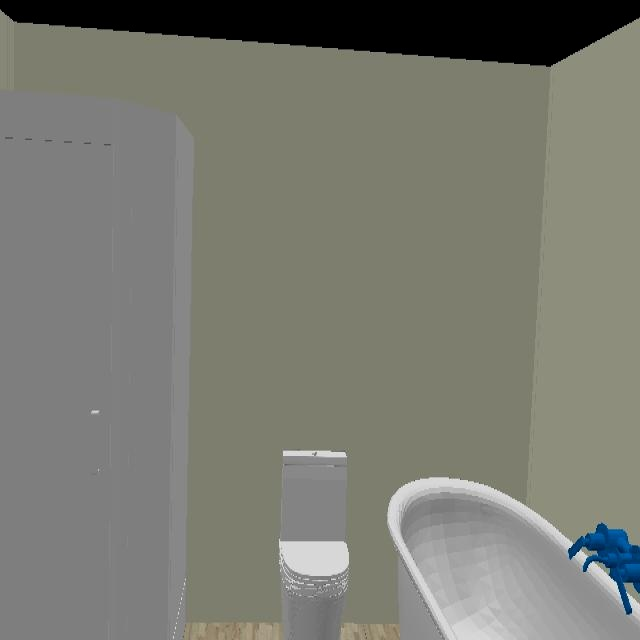bathtube: (386, 477, 640, 640)
shower: (0, 91, 195, 640)
toilet: (278, 451, 351, 640)
